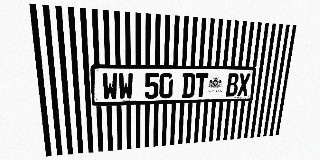0: (159, 73, 173, 99)
5: (145, 73, 159, 99)
B: (225, 73, 239, 97)
D: (181, 73, 195, 98)
T: (194, 73, 208, 98)
W: (102, 73, 118, 100), (118, 73, 133, 100)
X: (237, 73, 250, 96)
